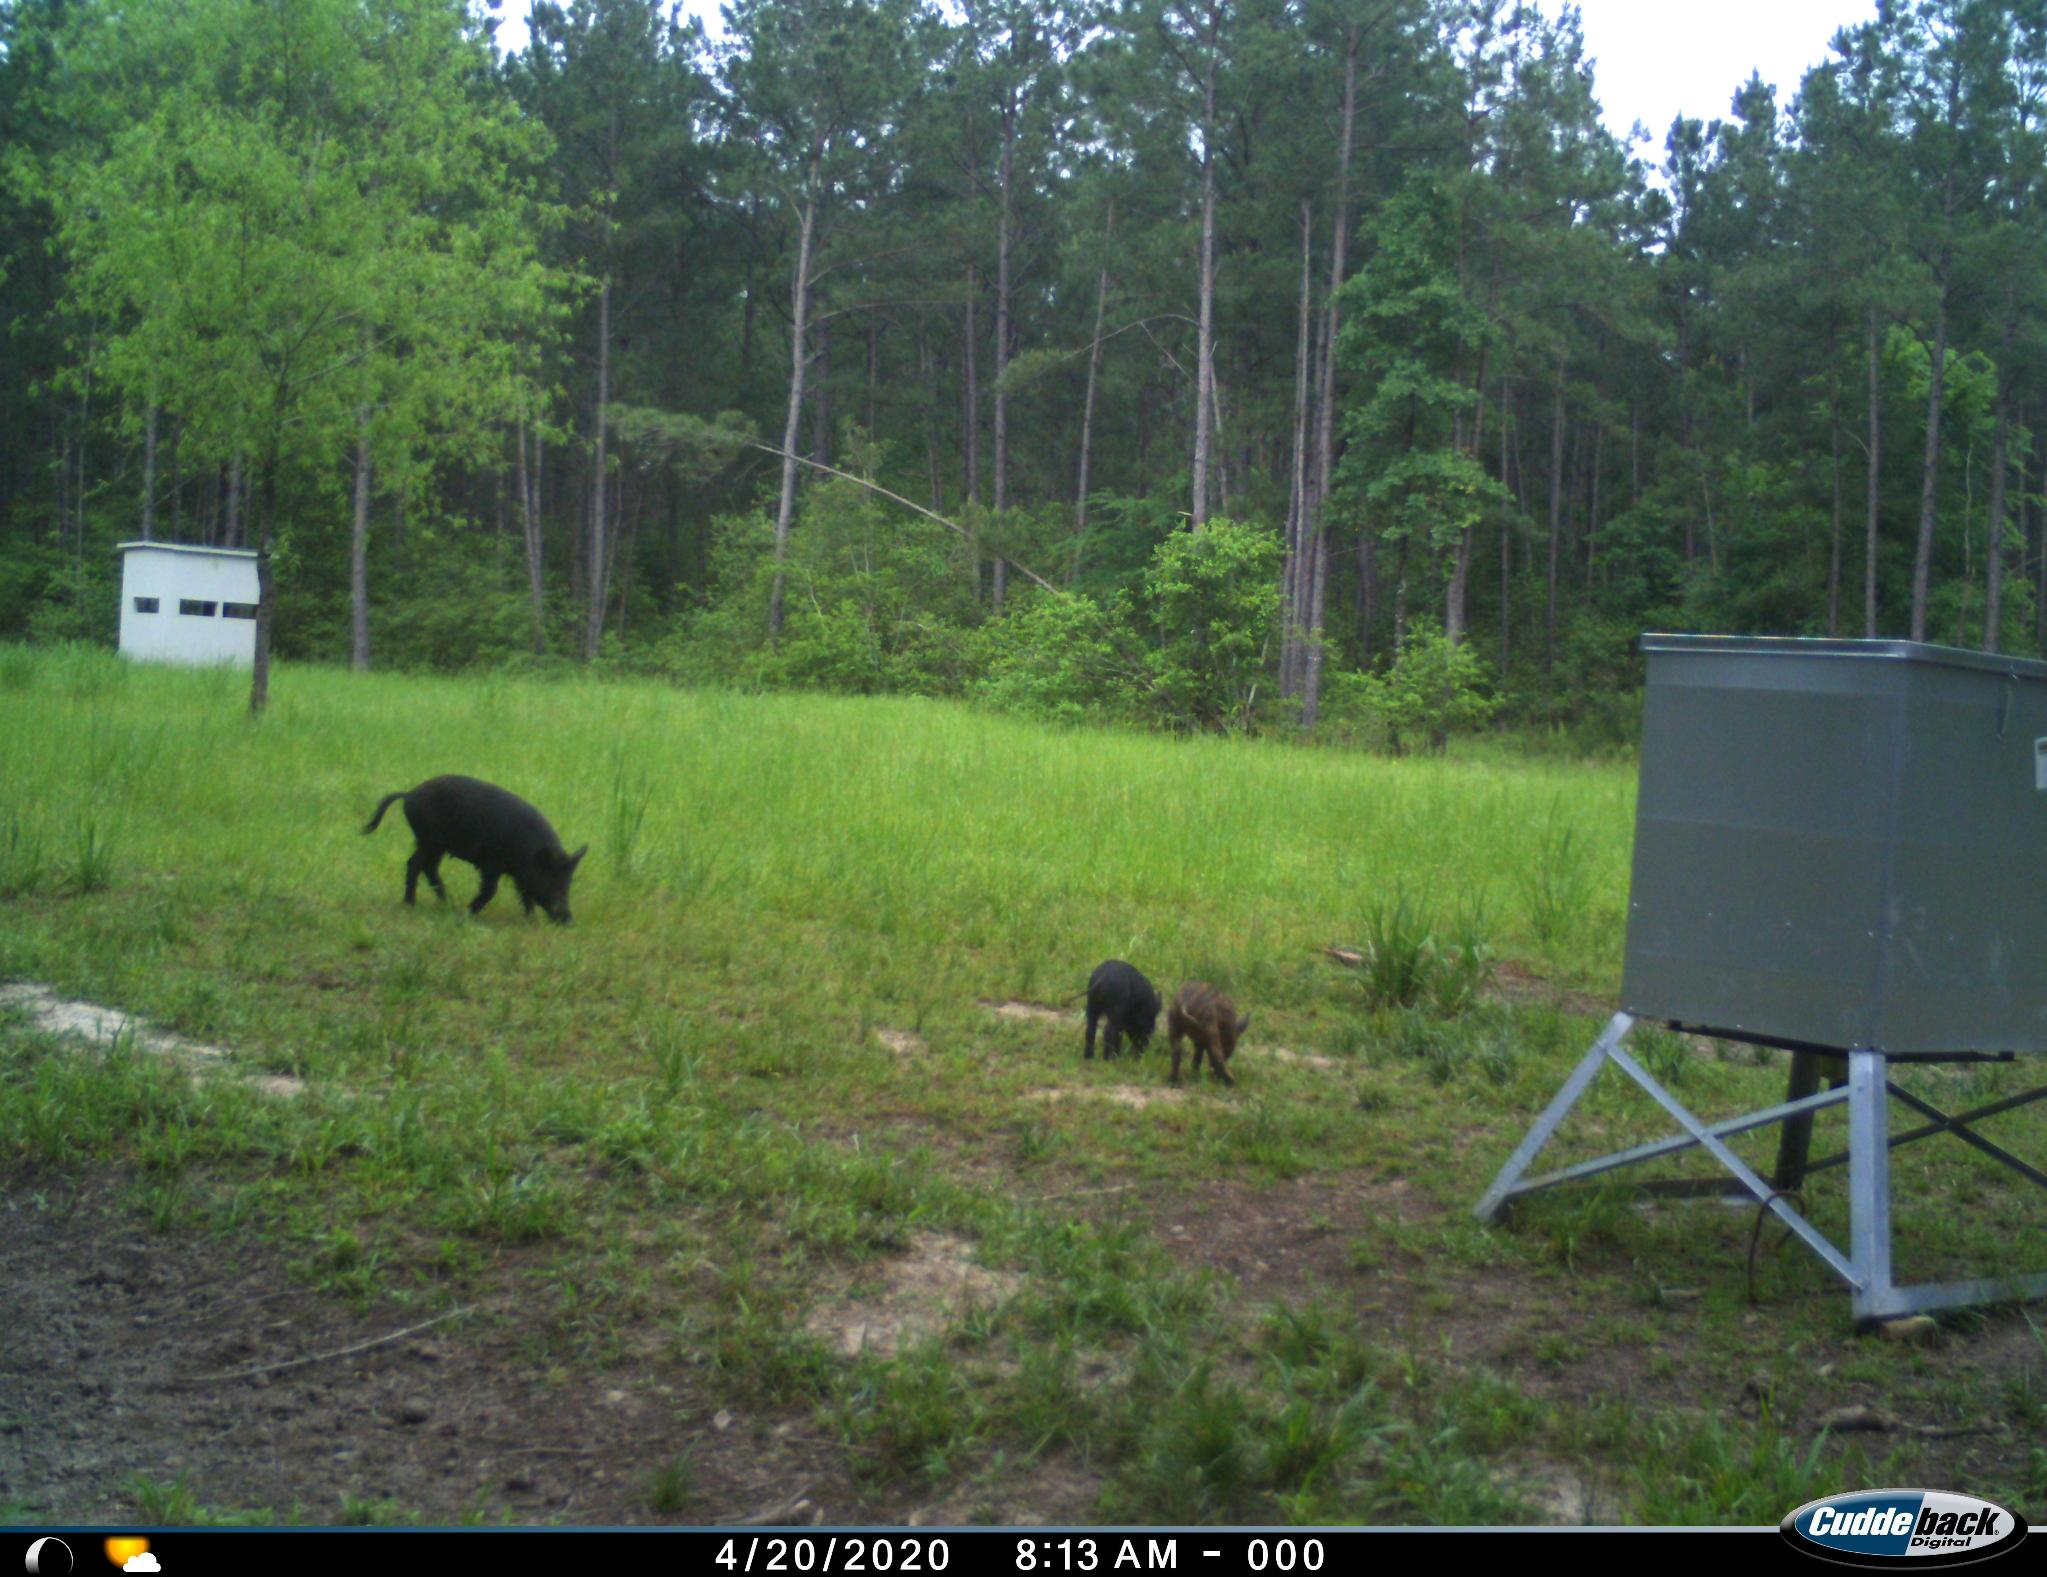Hog: (351, 770, 593, 939), (1163, 971, 1254, 1110), (1078, 954, 1171, 1073)
